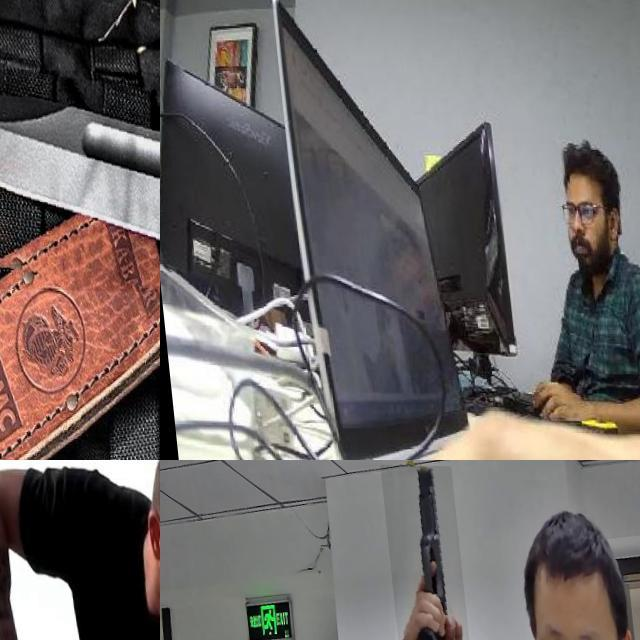-: (0, 67, 160, 293)
gun-knife-thesis - v11 Yolov5 augmented: (375, 463, 464, 640)
